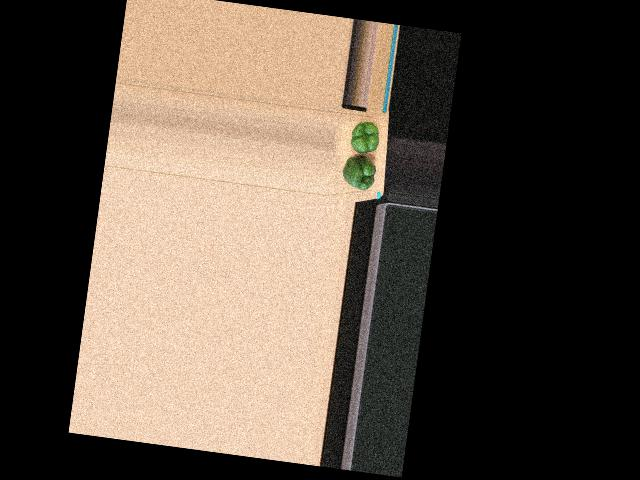bell_pepper: (345, 119, 381, 156)
